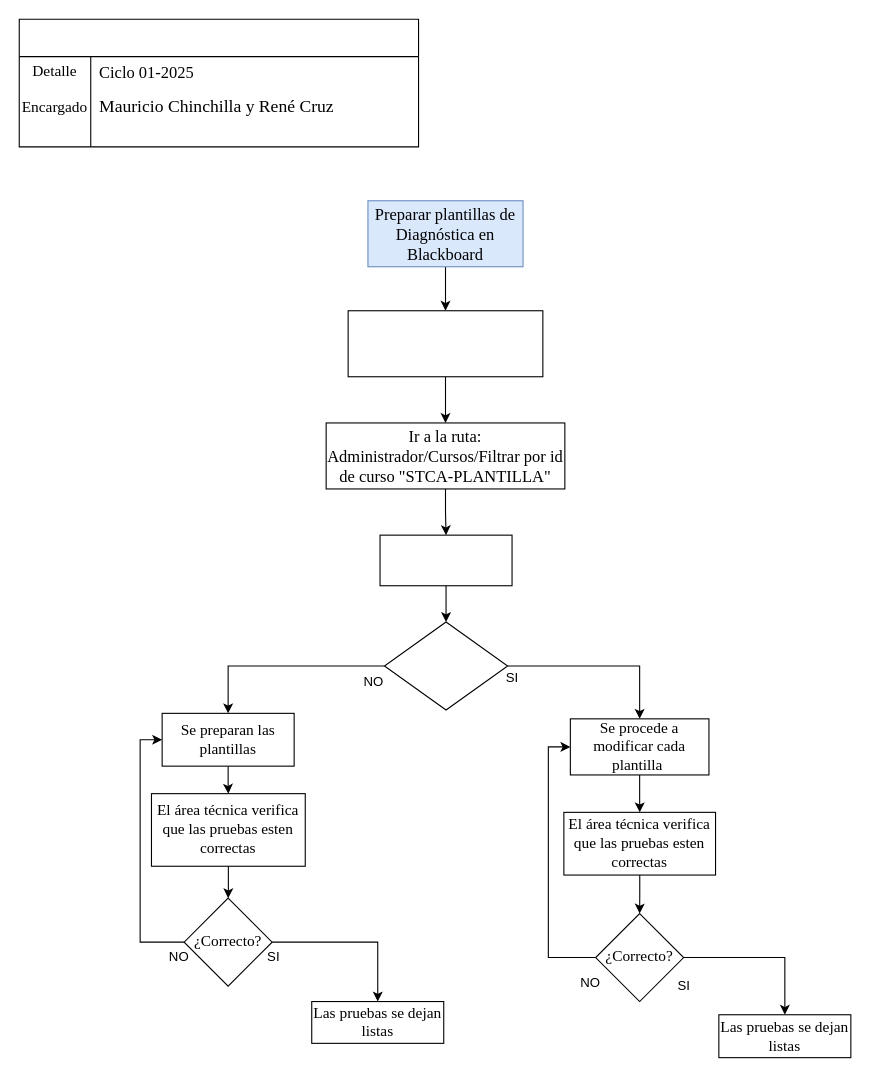
The diagram is 870 pixels wide and 1077 high, and some of its shapes have lost their labels. The shapes that lost their labels are listed below. From the top down, each one's box as (x1, y1, x2, y2) in pixels, then its label:
(18, 18, 419, 147): Agregar pruebas diagnósticas Blackboard
(347, 310, 543, 377): El área técnica ingresa con credenciales de administrador en Blackboard
(379, 534, 512, 586): Proceder a la busqueda
(383, 621, 508, 710): ¿Actualización?
